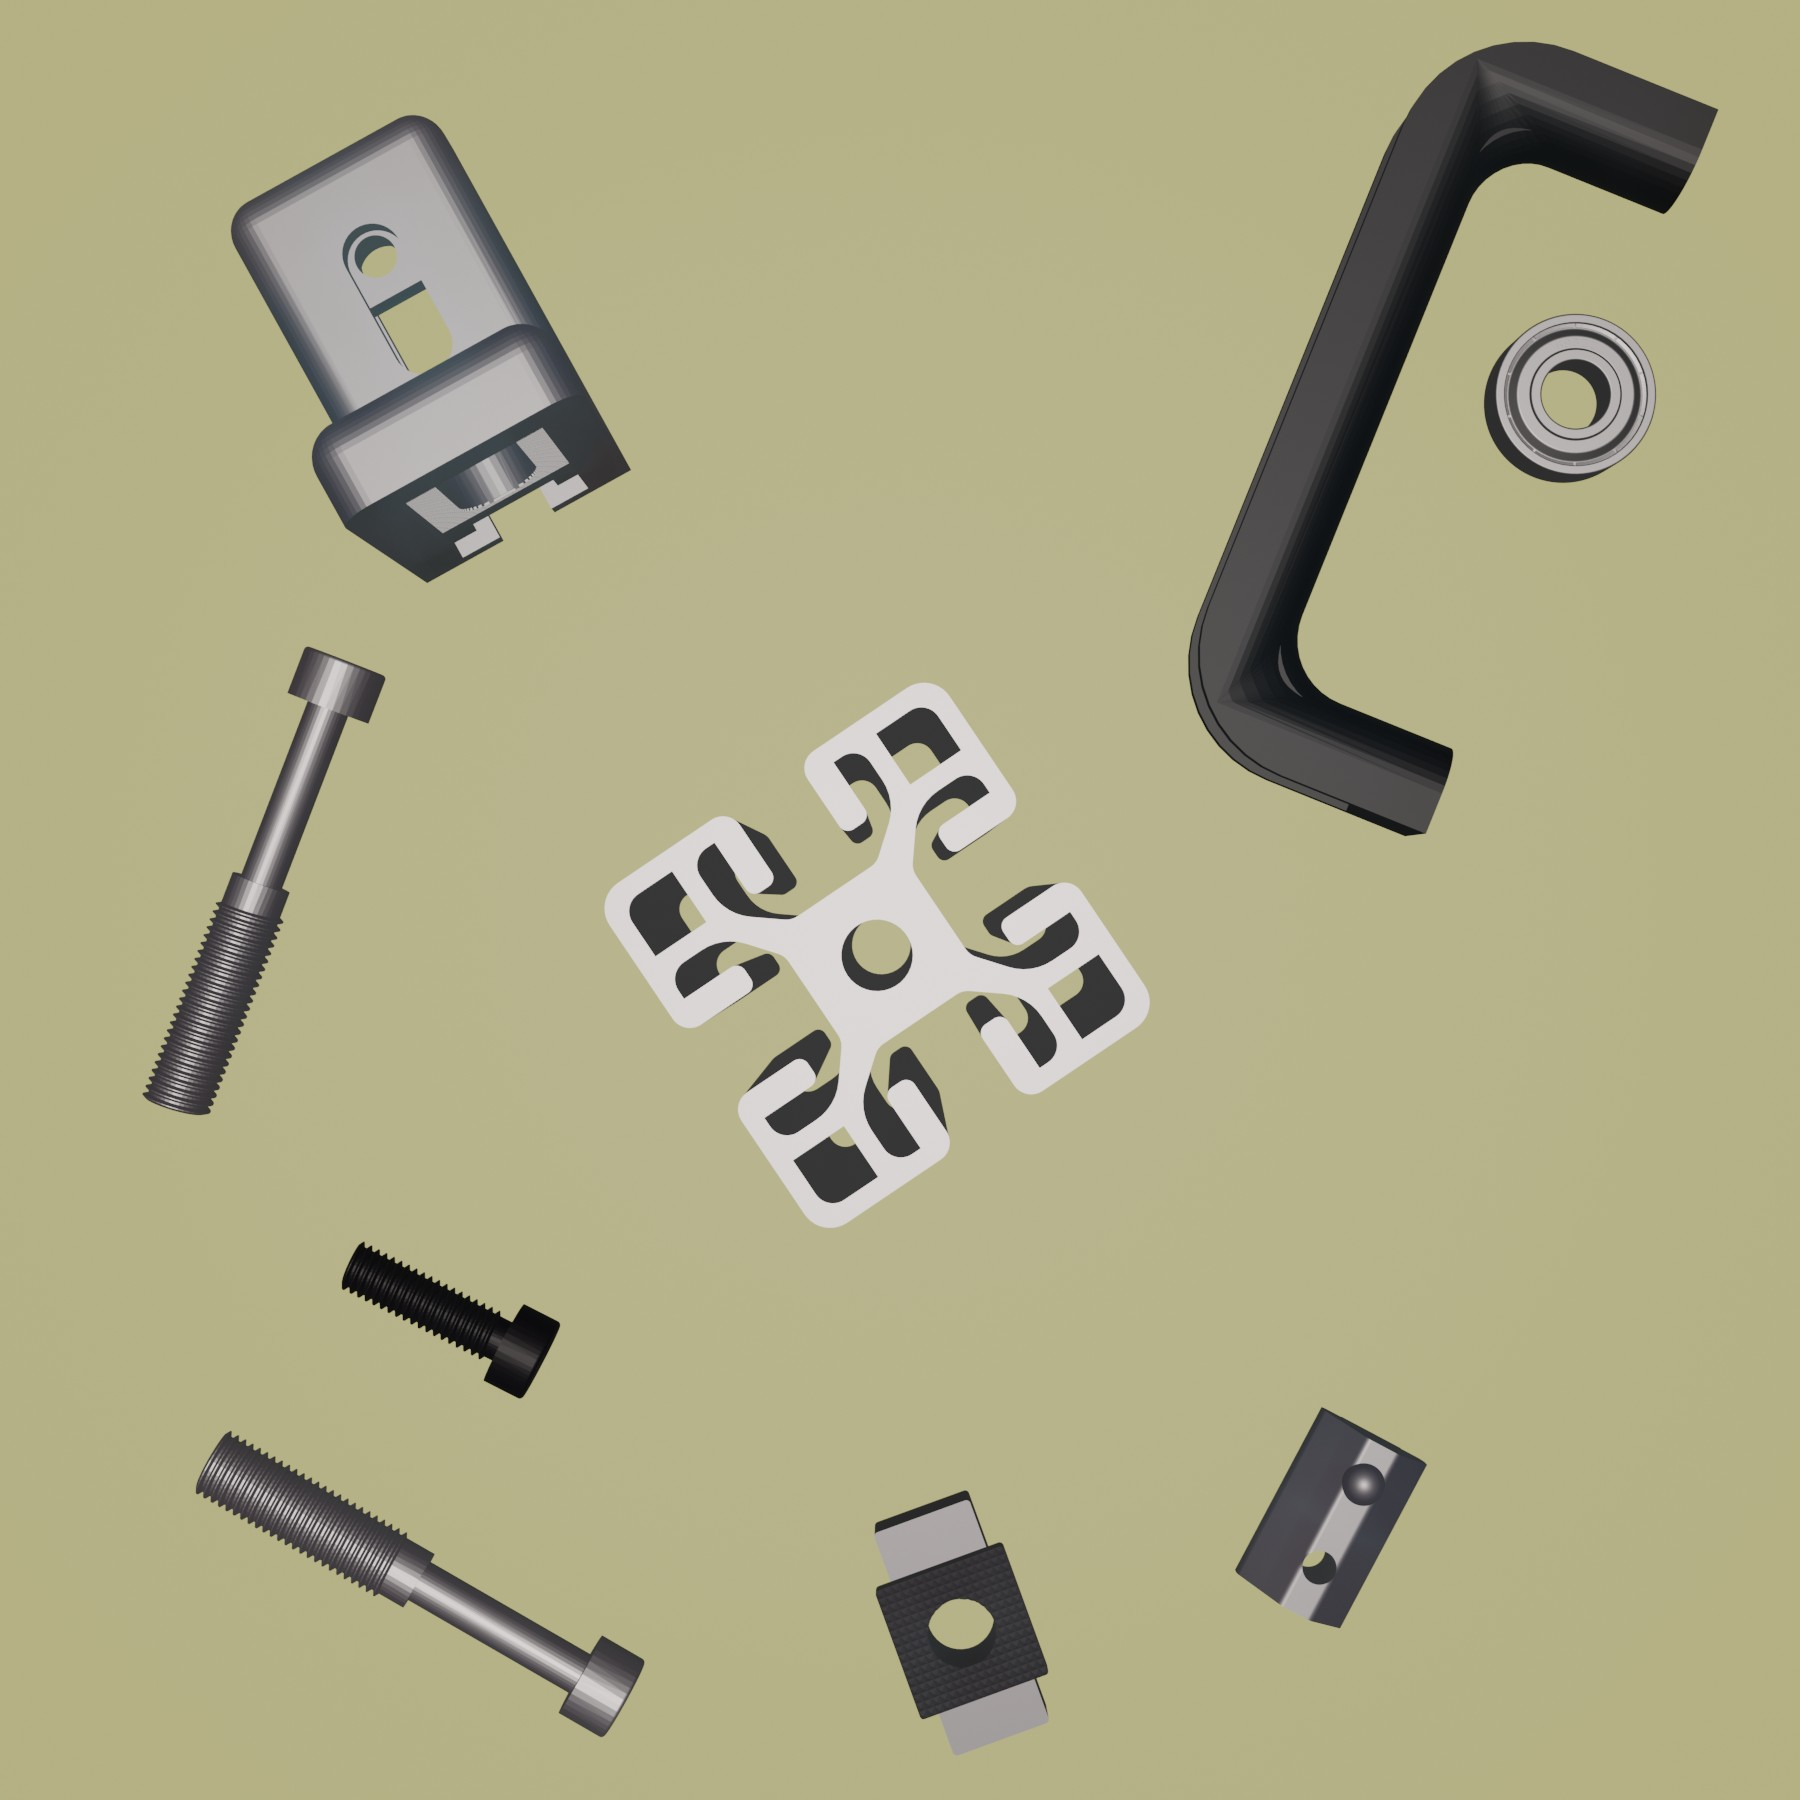Aluminium Extension: (603, 681, 1152, 1231)
Ball Bearing: (1482, 312, 1657, 485)
Multiwinkel: (227, 112, 635, 585)
Pull Handle: (1188, 41, 1721, 839)
Shoulder Socket Head Cap Screw: (193, 1431, 646, 1737), (140, 645, 387, 1116)
Socket Head Cap Screw: (336, 1241, 560, 1399)
T Nut Square: (870, 1487, 1053, 1759)
T Spring Nut: (1233, 1403, 1427, 1630)
